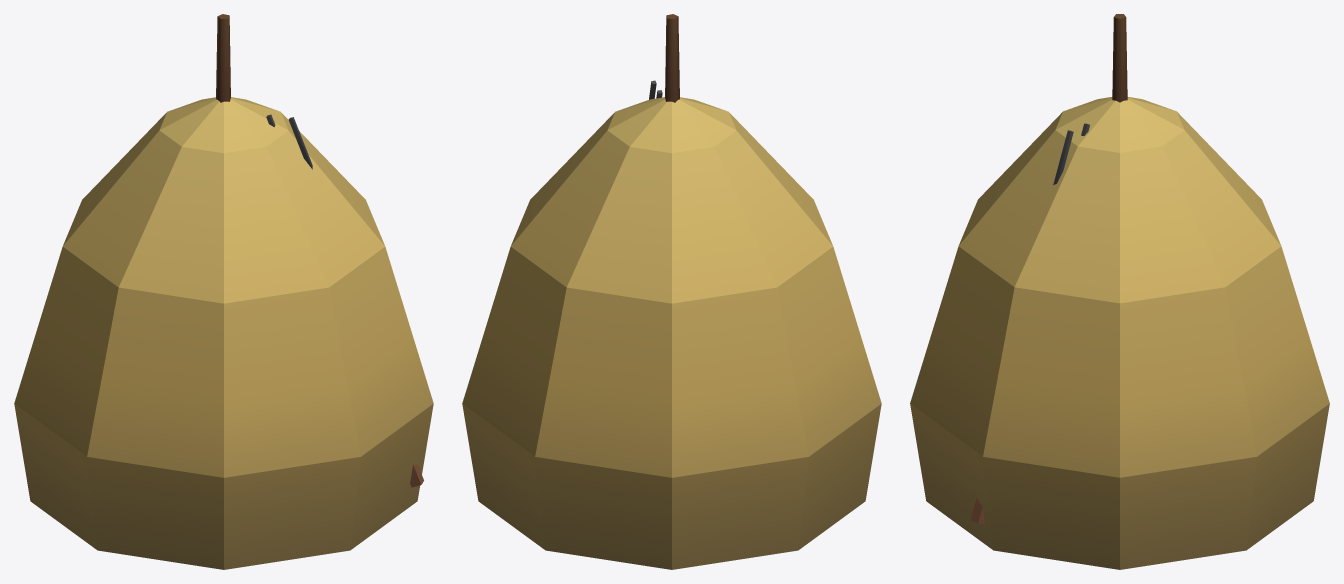
The model's file is haystack.glb.
3 renders of one model, left to right at view 1: azimuth 30°, elevation 25°; view 2: azimuth 150°, elevation 25°; view 3: azimuth 270°, elevation 25°, orthographic.
Visible parts, largest first — view 1: haystack; view 2: haystack; view 3: haystack.
Boxes of the visible parts, left/top/right/bottom form: haystack: left=14, top=14, right=433, bottom=569; haystack: left=462, top=14, right=881, bottom=569; haystack: left=910, top=14, right=1329, bottom=569.
Bounding box in the file's own units: 7.56 × 9.5 × 7.68.
1 material, 1 textured.
